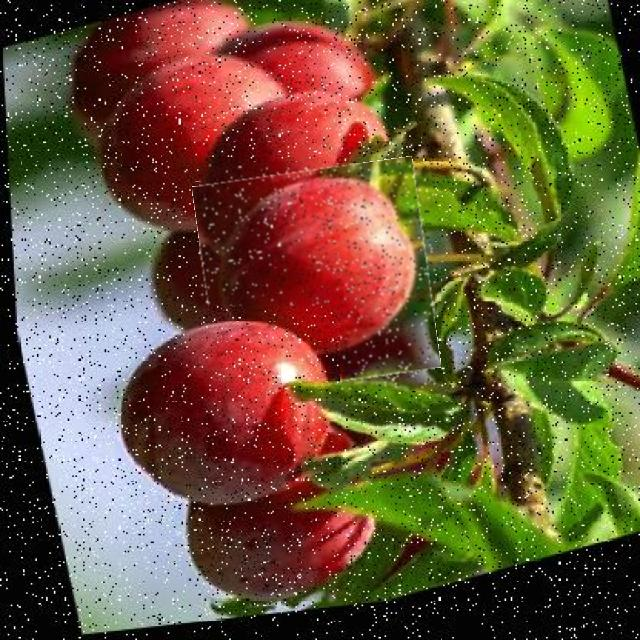plum: (86, 306, 340, 528), (199, 163, 435, 390)
